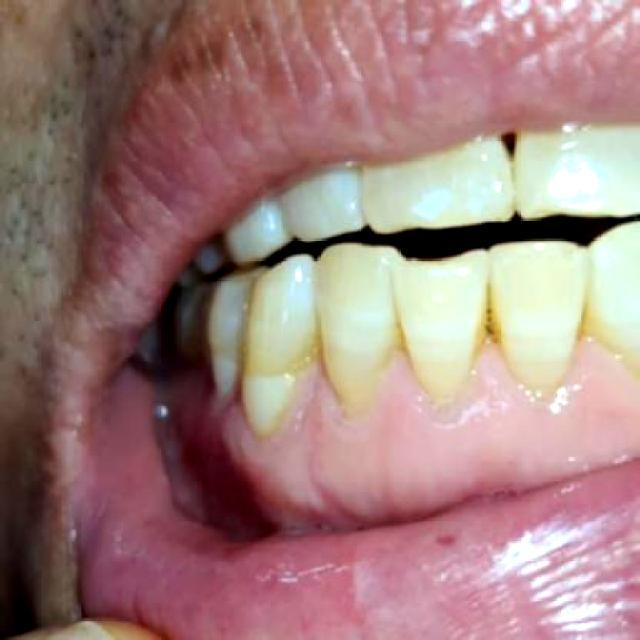Plaque: (222, 334, 620, 442)
